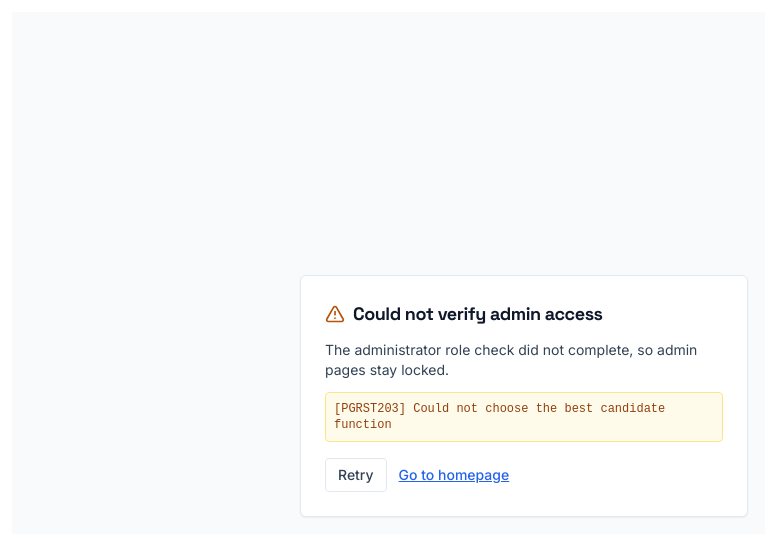
Scenario: Operations Control Center authorization (Batch 214 access states) › shows a distinct verification failure (with retry) when the role RPC errors
Expected: the heading "Could not verify admin access" is shown, [353,300,603,328]
Expected: the text "[PGRST203] Could not choose the best candidate function" is shown, [325,392,723,442]
Step 1. Click the button "Retry" → (356, 475), box [325,458,387,492]
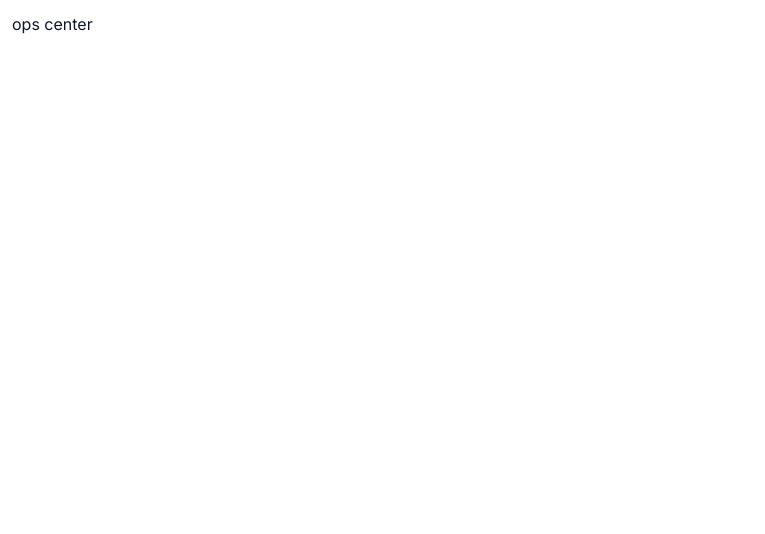
Now the text "ops center" is shown, box [12,14,93,34]
